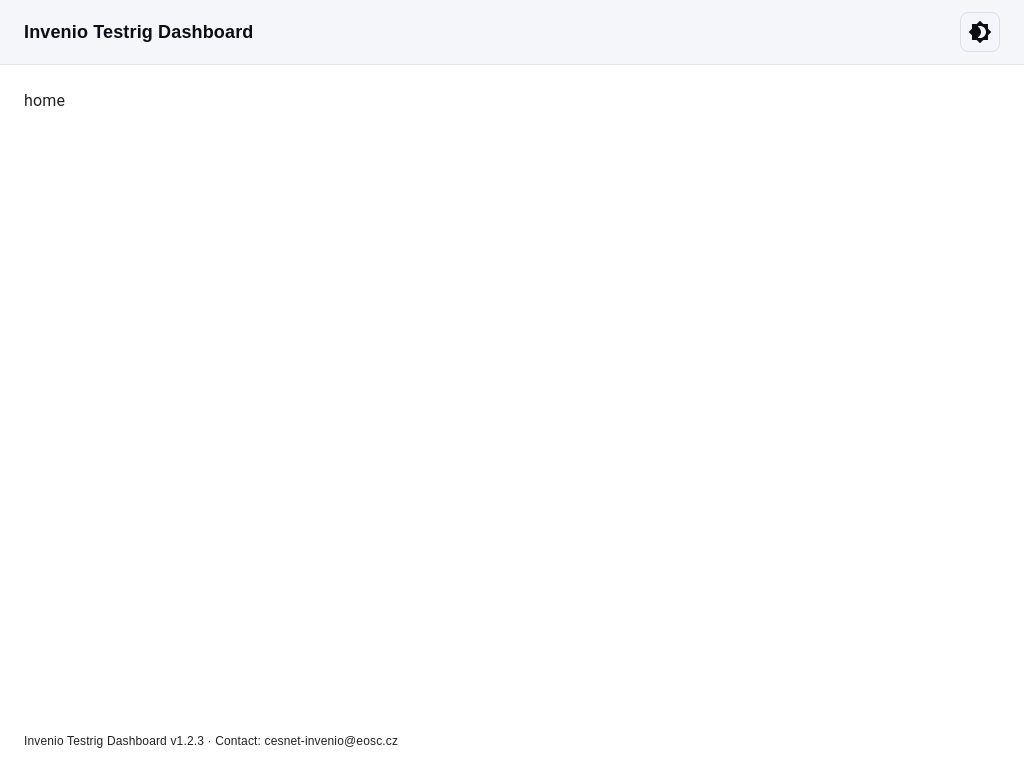
Scenario: Layout › toggles the colour mode manually
Expected: the icon with test id "Brightness4Icon" is shown, [968, 20, 992, 44]
Click the button named "Toggle colour mode". click: (980, 32)
box: [960, 12, 1000, 52]
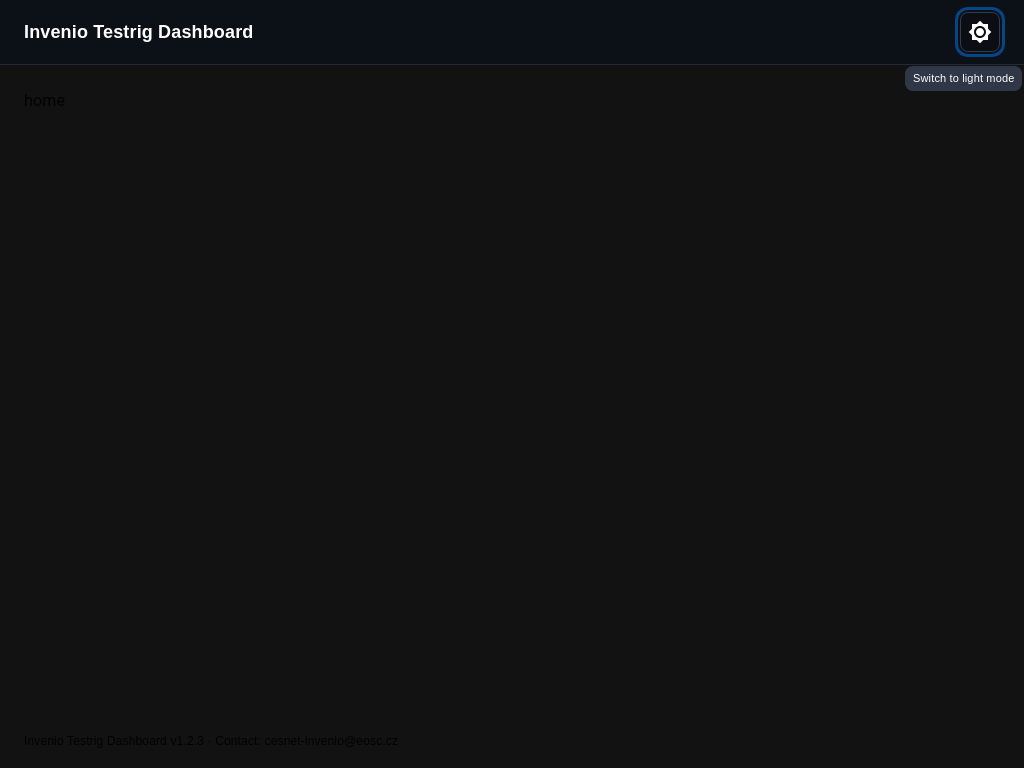
Expected: the icon with test id "Brightness7Icon" is shown, [968, 20, 992, 44]
